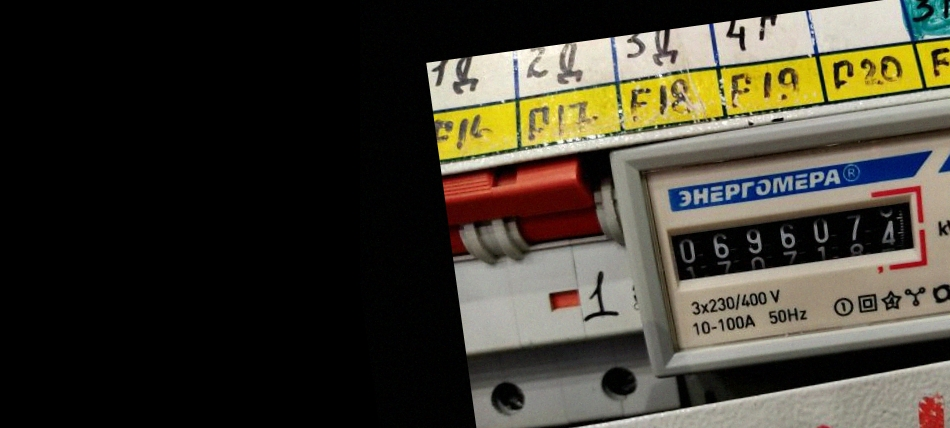0: (675, 234, 700, 265), (811, 213, 832, 244), (711, 230, 731, 258)
4: (878, 217, 898, 247)
6: (776, 218, 798, 250)
7: (843, 210, 865, 241)
9: (743, 224, 765, 255)
screen: (651, 180, 934, 301)
